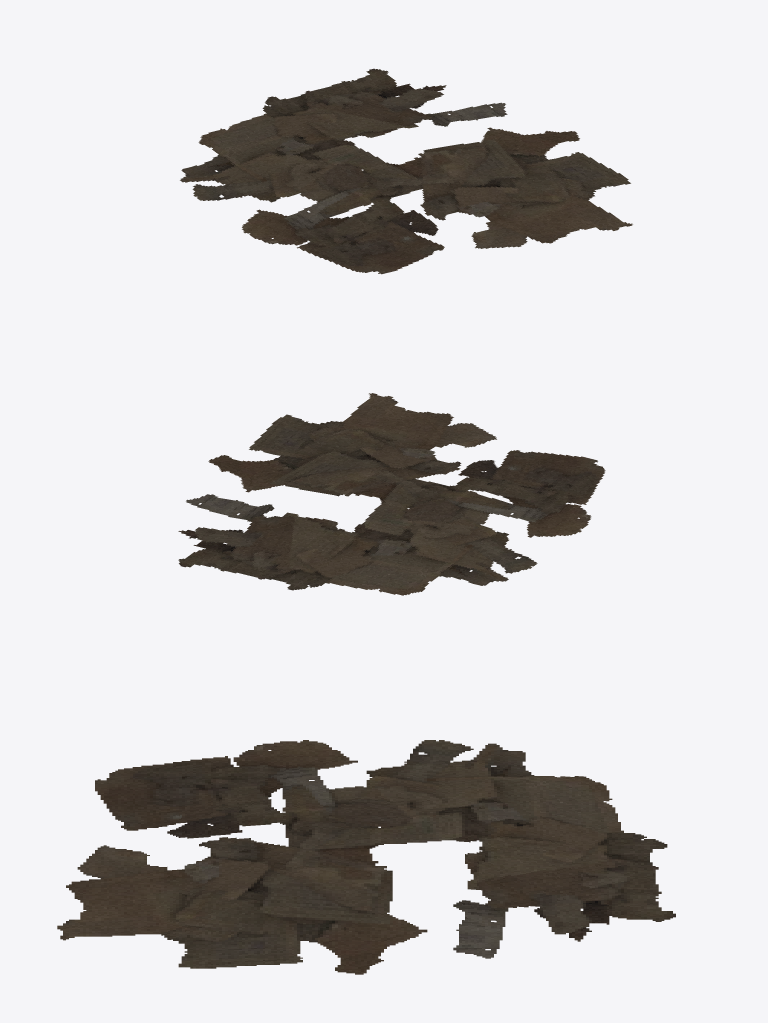
File: trash_4.glb
3 views of the same model, one above another, from view 1: azimuth 30°, elevation 25°; view 2: azimuth 150°, elevation 25°; view 3: azimuth 270°, elevation 25° (orthographic). The views are drawn at different scales.
Parts seen in each view (by area): view 1: trash_4; view 2: trash_4; view 3: trash_4.
Boxes of the visible parts, x1,y1,x2,y2 form: trash_4: [180, 68, 632, 274]; trash_4: [178, 393, 605, 595]; trash_4: [57, 740, 675, 974].
Bounding box in the file's own units: 1 × 0.0147 × 1.
Materials: 1 (1 with a texture image).
